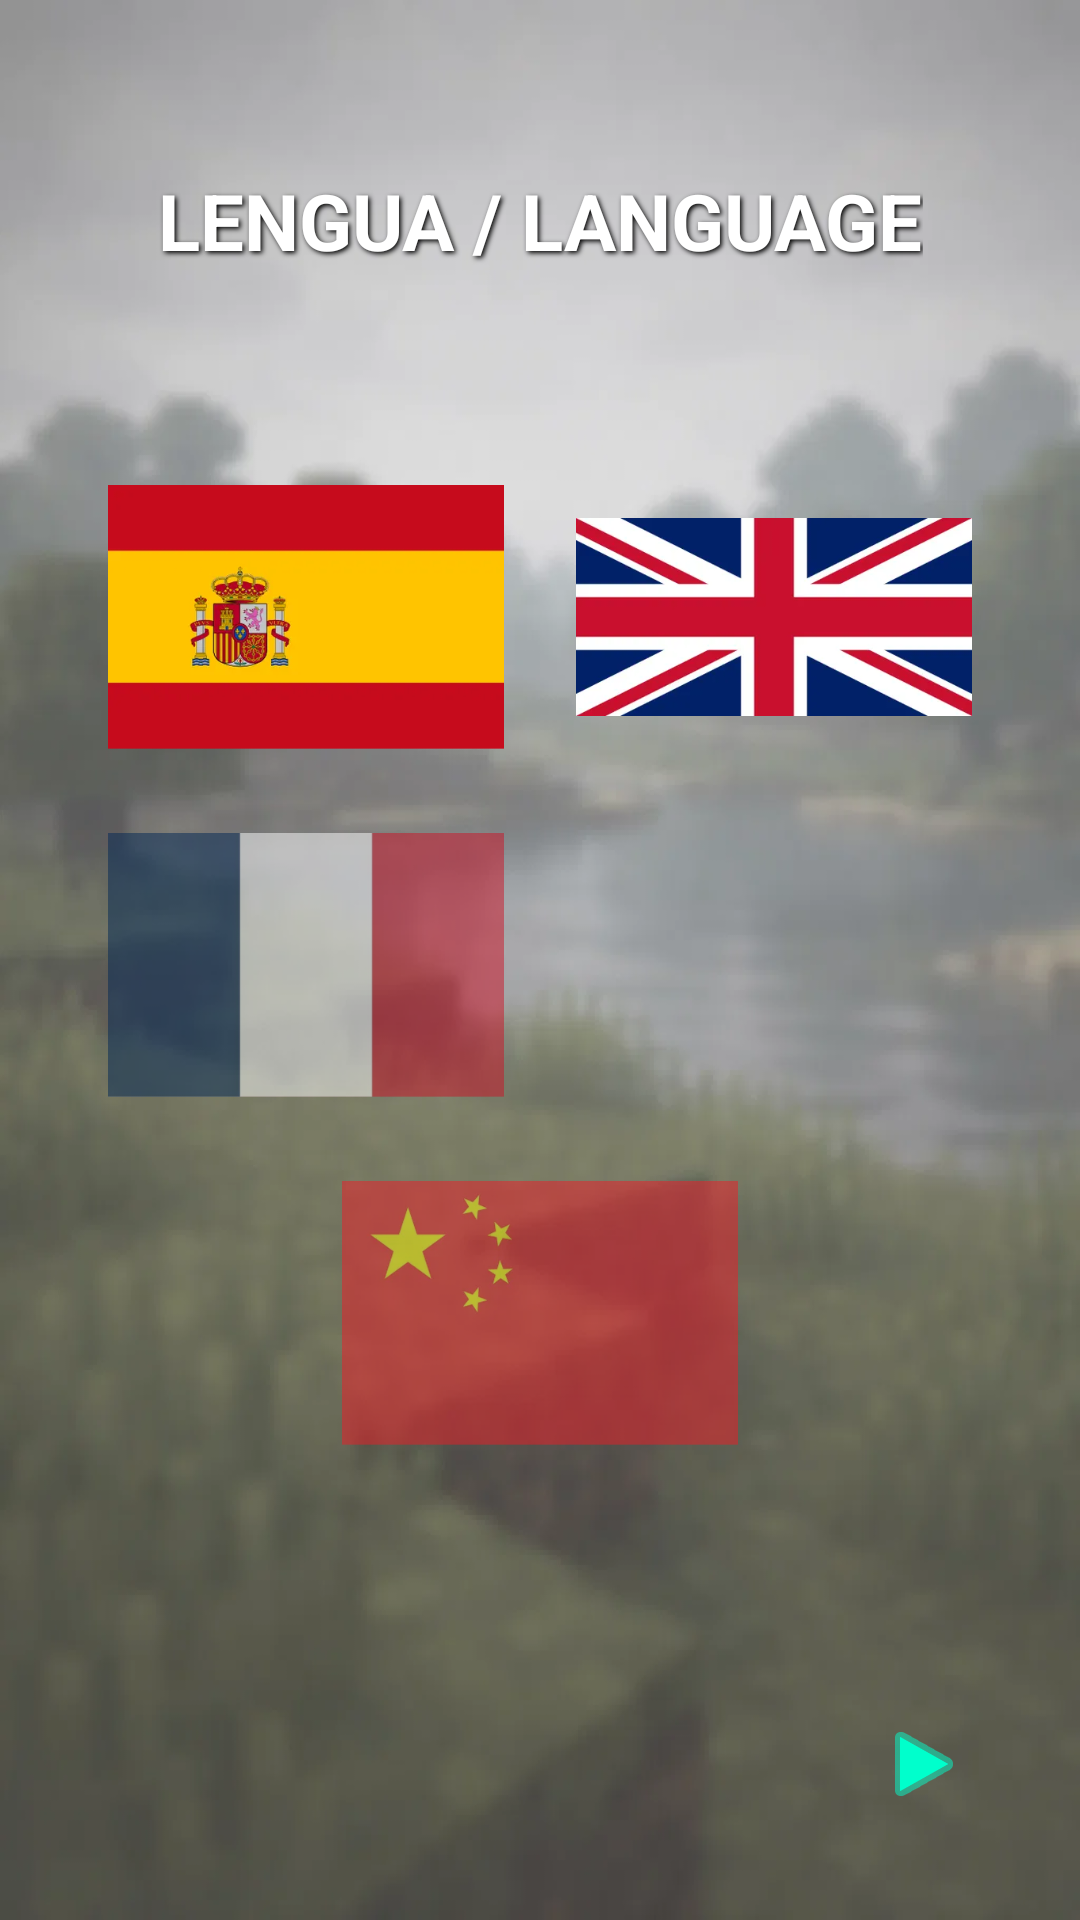

Locate icon controls on the screen. Image size 1080w x 1920h, boxes as (x1, y1, x2, y2).
play: (895, 1732, 953, 1796)
